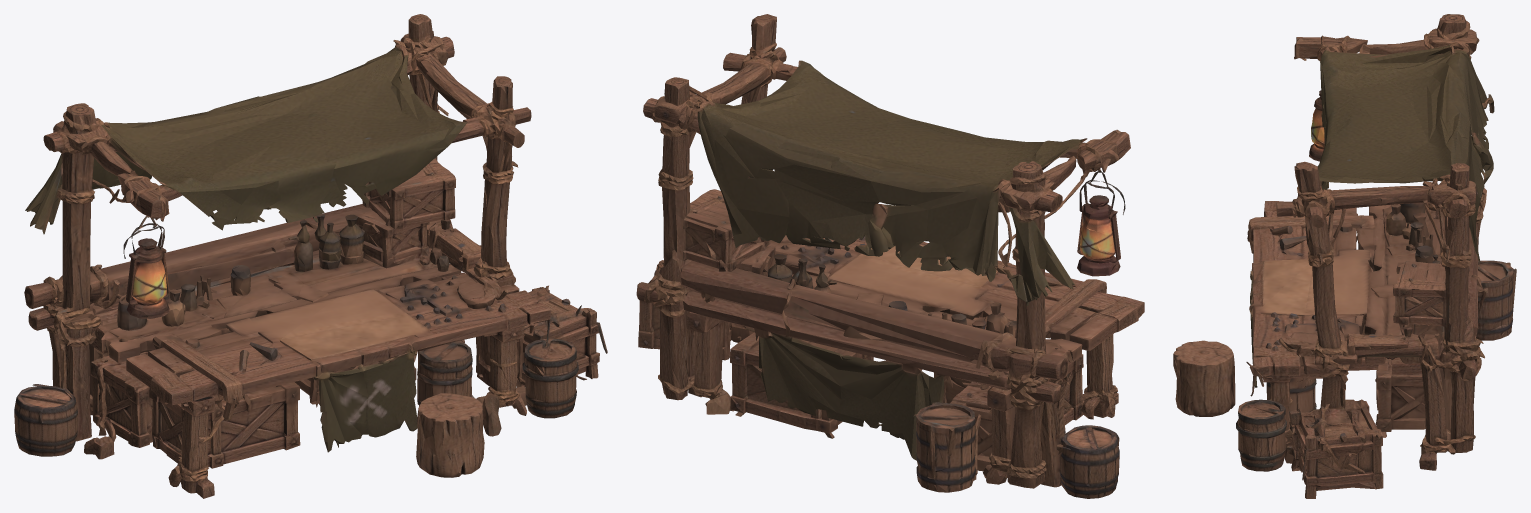
Rendered from Meshy_AI_Rustic_Woodsman_Workb_1021041953_texture.glb.
3 views of the same model, side by side, from view 1: azimuth 30°, elevation 25°; view 2: azimuth 150°, elevation 25°; view 3: azimuth 270°, elevation 25° (orthographic). The views are drawn at different scales.
Parts seen in each view (by area): view 1: output_unwrapped; view 2: output_unwrapped; view 3: output_unwrapped.
Part boxes in pixels (x1,y1,x2,y2): output_unwrapped: (14,14,607,498); output_unwrapped: (636,14,1144,498); output_unwrapped: (1173,14,1516,498).
Size of the model in its own units: 1.88 by 1.12 by 1.19.
Materials: 1 (1 with a texture image).
